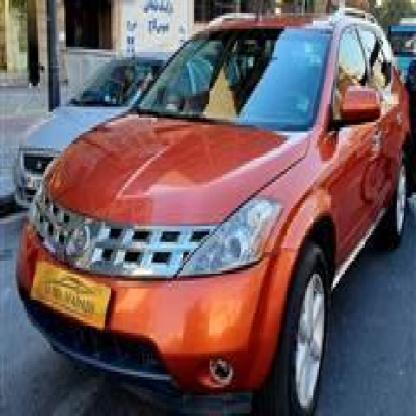Car: (22, 0, 412, 406), (0, 42, 210, 187)
